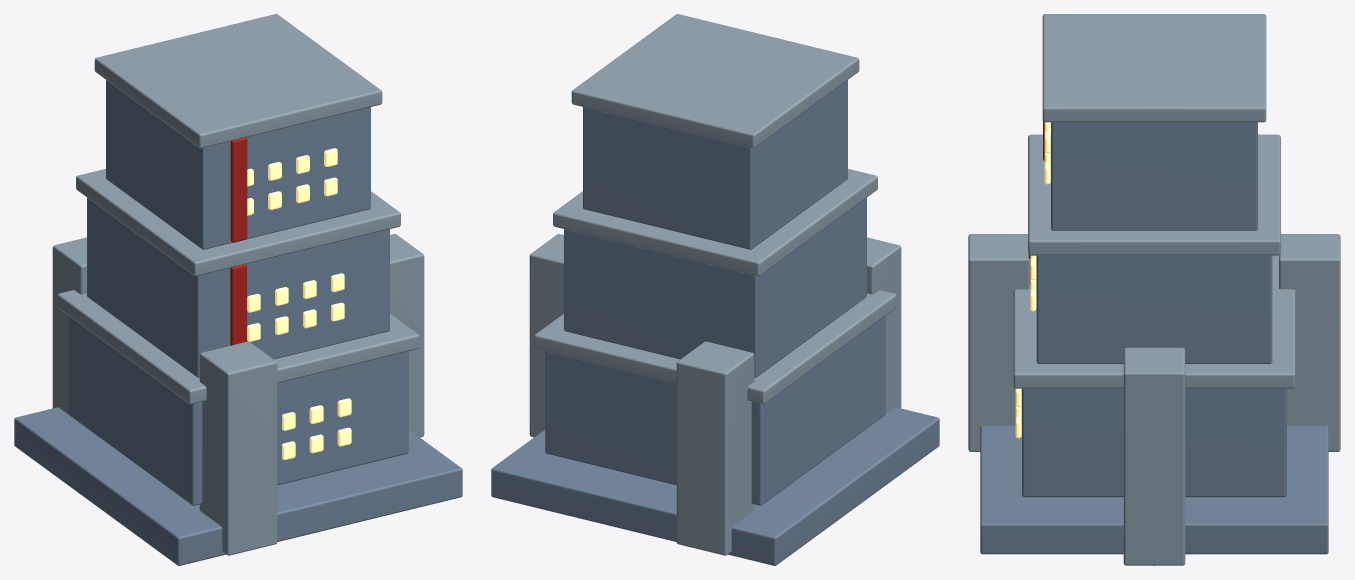
3 views of the same model, side by side, from view 1: azimuth 30°, elevation 25°; view 2: azimuth 150°, elevation 25°; view 3: azimuth 270°, elevation 25° (orthographic). The views are drawn at different scales.
Parts seen in each view (by area): view 1: Modular block storey.001, Modular block storey, Modular block storey.002, Foundation slab, Block roof ledge.002, Block buttress.002, Block roof ledge.001, Block roof ledge, Block buttress, Block buttress.001, Vertical block colour strip.002, Vertical block colour strip.001; view 2: Modular block storey.001, Modular block storey, Modular block storey.002, Foundation slab, Block roof ledge.002, Block buttress.001, Block roof ledge.001, Block roof ledge, Block buttress, Block buttress.002; view 3: Modular block storey.001, Block roof ledge.002, Foundation slab, Modular block storey.002, Modular block storey, Block buttress, Block roof ledge.001, Block buttress.001, Block buttress.002, Block roof ledge.
Boxes of the visible parts, <box> form: Modular block storey.001: <box>87,198,389,377</box>; Modular block storey: <box>68,315,408,505</box>; Modular block storey.002: <box>106,80,370,249</box>; Foundation slab: <box>14,407,462,565</box>; Block roof ledge.002: <box>94,14,382,148</box>; Block buttress.002: <box>199,341,277,555</box>; Block roof ledge.001: <box>76,169,400,276</box>; Block roof ledge: <box>57,290,419,404</box>; Block buttress: <box>390,234,424,437</box>; Block buttress.001: <box>52,237,86,414</box>; Vertical block colour strip.002: <box>230,137,247,242</box>; Vertical block colour strip.001: <box>230,264,246,345</box>; Modular block storey.001: <box>564,198,866,377</box>; Modular block storey: <box>545,315,885,505</box>; Modular block storey.002: <box>583,80,847,249</box>; Foundation slab: <box>491,407,939,565</box>; Block roof ledge.002: <box>571,14,859,148</box>; Block buttress.001: <box>676,341,754,555</box>; Block roof ledge.001: <box>553,169,877,276</box>; Block roof ledge: <box>534,290,896,404</box>; Block buttress: <box>529,234,563,437</box>; Block buttress.002: <box>867,237,901,414</box>; Modular block storey.001: <box>1036,255,1272,363</box>; Block roof ledge.002: <box>1042,14,1266,122</box>; Foundation slab: <box>980,425,1328,554</box>; Modular block storey.002: <box>1051,122,1257,230</box>; Modular block storey: <box>1022,388,1286,497</box>; Block buttress: <box>1123,347,1185,565</box>; Block roof ledge.001: <box>1028,134,1280,255</box>; Block buttress.001: <box>1279,234,1340,451</box>; Block buttress.002: <box>968,234,1029,451</box>; Block roof ledge: <box>1013,255,1295,388</box>.
Bounding box in the file's own units: 2.25 × 2.72 × 2.18.
